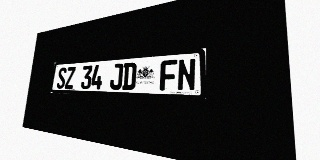3: (80, 65, 93, 89)
4: (90, 65, 103, 89)
D: (122, 62, 137, 90)
F: (159, 59, 177, 91)
J: (109, 63, 123, 90)
N: (177, 58, 196, 91)
S: (56, 67, 67, 89)
Z: (64, 66, 76, 89)
